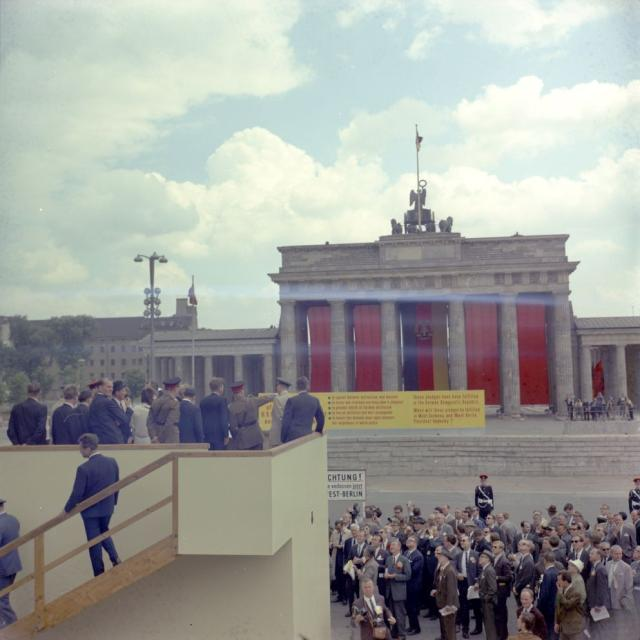body: (57, 432, 123, 580), (385, 186, 456, 240), (516, 502, 591, 552), (227, 380, 279, 450), (424, 504, 516, 542), (452, 533, 484, 640), (279, 376, 326, 444), (349, 576, 397, 640), (0, 498, 23, 630), (429, 550, 462, 640), (382, 538, 411, 640), (344, 500, 424, 535), (6, 380, 48, 446), (145, 376, 182, 444), (199, 376, 231, 452), (552, 570, 586, 640), (584, 546, 609, 640), (421, 524, 444, 622), (402, 534, 424, 635), (489, 539, 511, 640), (604, 543, 636, 612), (344, 528, 368, 618), (536, 551, 560, 640), (564, 391, 635, 421), (50, 383, 83, 445), (328, 519, 352, 604), (477, 549, 499, 640), (48, 383, 79, 445), (175, 385, 206, 444), (267, 378, 293, 448), (515, 587, 548, 640), (128, 387, 158, 444), (606, 512, 637, 566), (110, 379, 135, 445), (510, 538, 537, 598), (370, 533, 390, 608), (108, 379, 130, 445), (511, 539, 535, 596), (532, 546, 566, 586), (71, 389, 95, 444), (567, 534, 591, 587), (614, 513, 638, 566), (132, 388, 154, 445), (507, 609, 543, 640), (566, 559, 588, 605), (474, 474, 495, 521), (441, 533, 463, 574), (342, 523, 361, 564), (374, 527, 400, 556), (629, 544, 640, 612), (548, 535, 566, 569), (469, 528, 492, 554), (628, 477, 640, 525), (400, 534, 424, 556), (594, 511, 616, 532), (176, 380, 198, 400), (597, 540, 613, 567), (629, 507, 640, 546), (594, 525, 612, 548), (597, 541, 613, 566), (596, 502, 612, 524), (87, 380, 102, 401), (360, 523, 374, 545), (341, 512, 352, 531), (122, 395, 132, 414), (541, 536, 553, 551), (488, 532, 502, 544), (328, 517, 334, 538), (57, 385, 66, 399)
